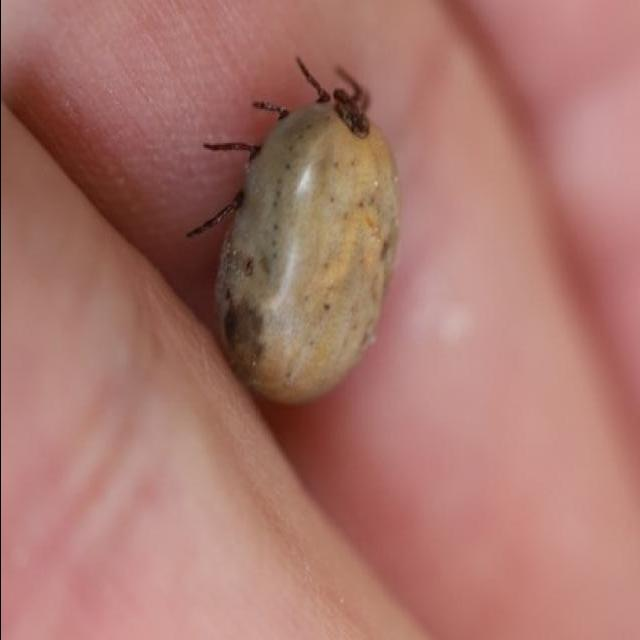Dermacentor Reticulatus-F-Fed: (183, 54, 399, 404)
